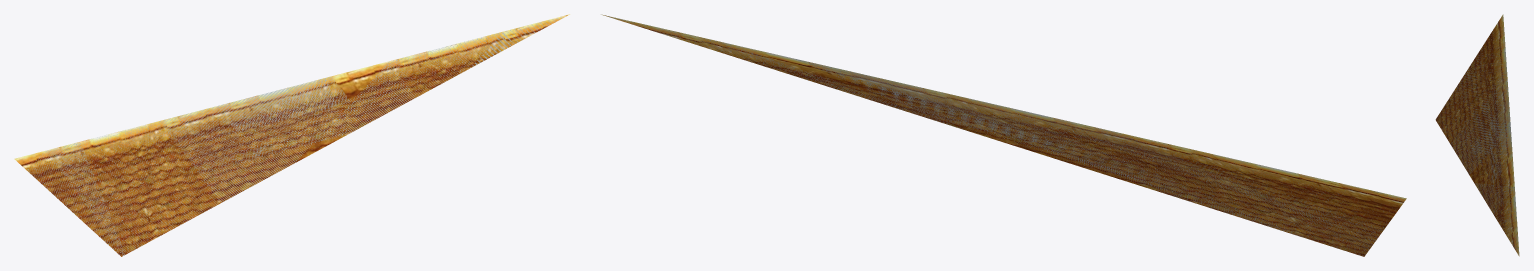
The model's file is 西庸城堡628.dae.
The picture shows the model from 3 angles, left to right: view 1: azimuth 30°, elevation 25°; view 2: azimuth 150°, elevation 25°; view 3: azimuth 270°, elevation 25°; orthographic projection. The views are drawn at different scales.
Visible parts, largest first — view 1: SketchUp; view 2: SketchUp; view 3: SketchUp.
Boxes of the visible parts, x1=… form: SketchUp: x1=14, y1=14, x2=569, y2=256; SketchUp: x1=601, y1=14, x2=1406, y2=256; SketchUp: x1=1435, y1=14, x2=1519, y2=256.
Size of the model in its own units: 403 by 58.97 by 59.06.
